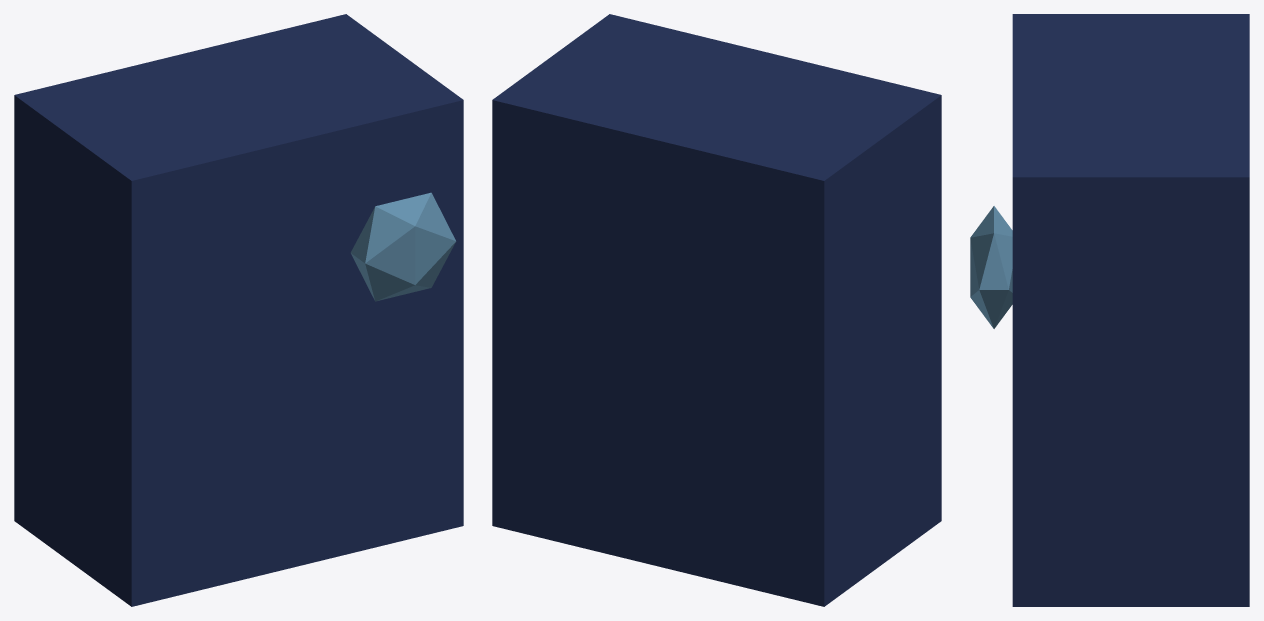
The model's file is body.glb.
3 views of the same model, side by side, from view 1: azimuth 30°, elevation 25°; view 2: azimuth 150°, elevation 25°; view 3: azimuth 270°, elevation 25° (orthographic).
Visible parts, largest first — view 1: chest, chest_emblem; view 2: chest; view 3: chest, chest_emblem.
Boxes of the visible parts, x1,y1,x2,y2 form: chest: (14, 14, 463, 606); chest_emblem: (350, 192, 456, 301); chest: (492, 14, 941, 606); chest: (1012, 14, 1249, 606); chest_emblem: (970, 206, 1012, 328).
Size of the model in its own units: 0.62 by 0.76 by 0.4483.
